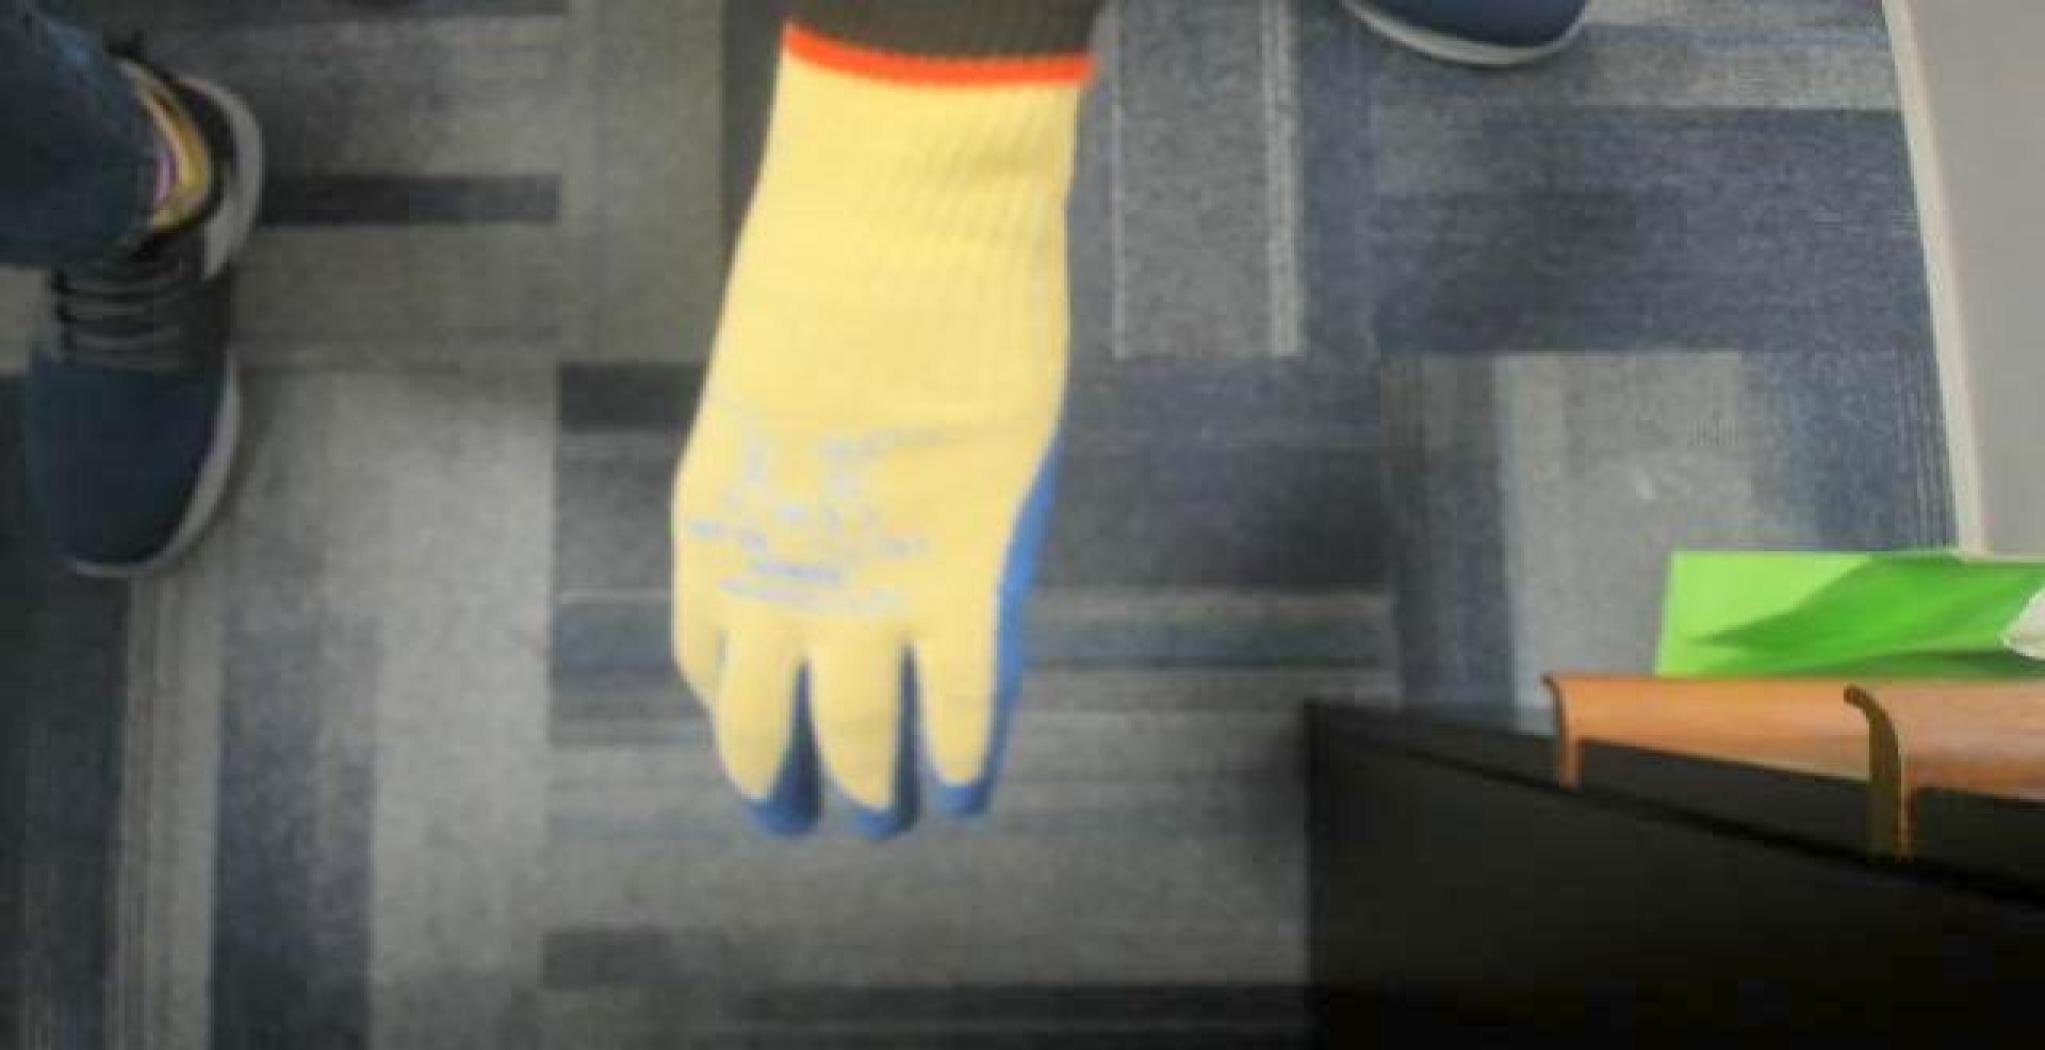gloved: (678, 4, 1211, 899)
